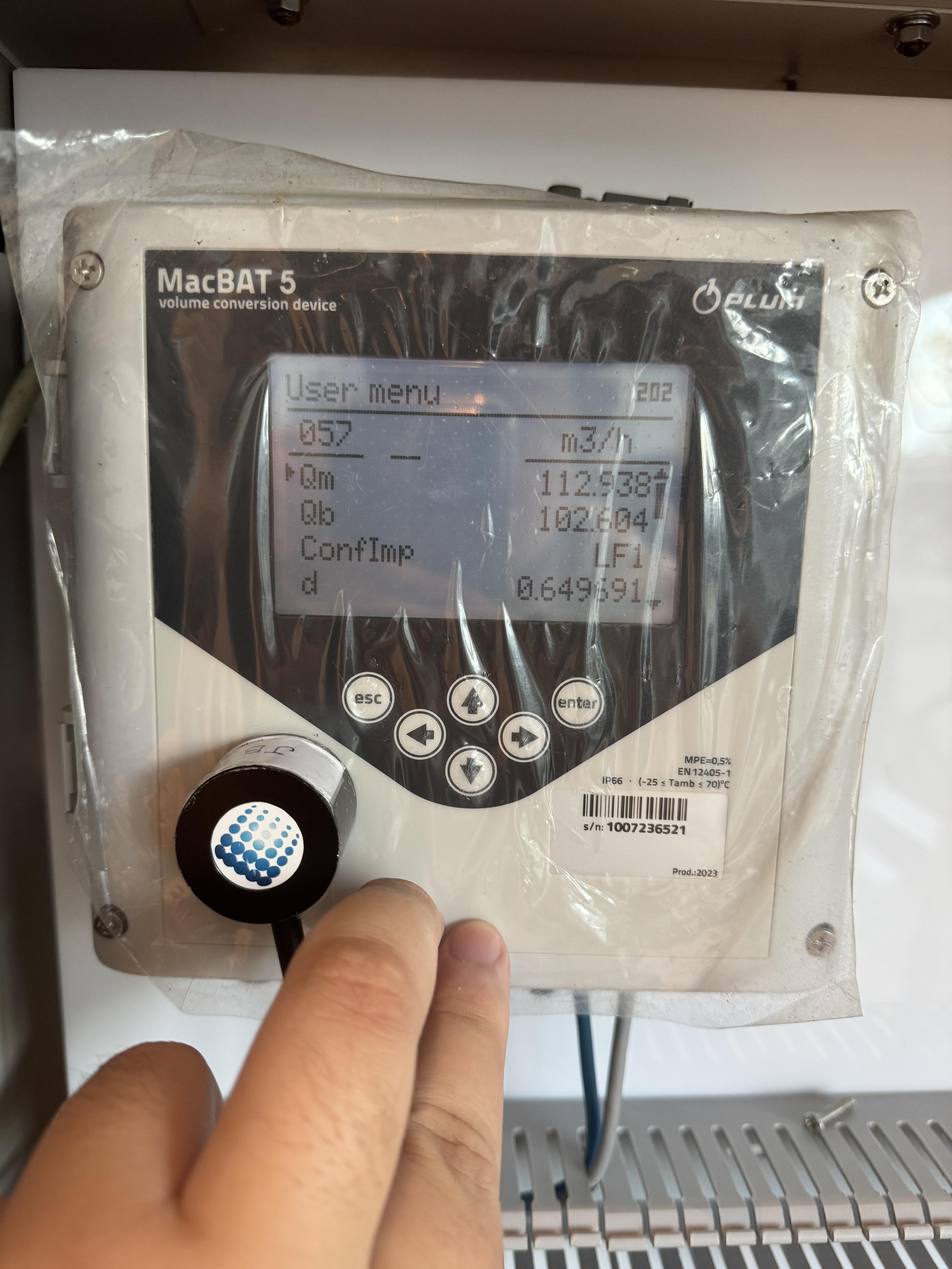digital_screen: (267, 356, 692, 626)
